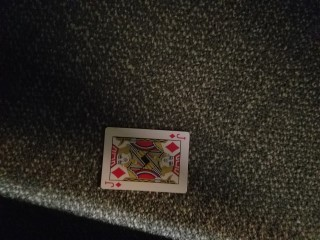JackOfDiamonds: (99, 125, 191, 195)
